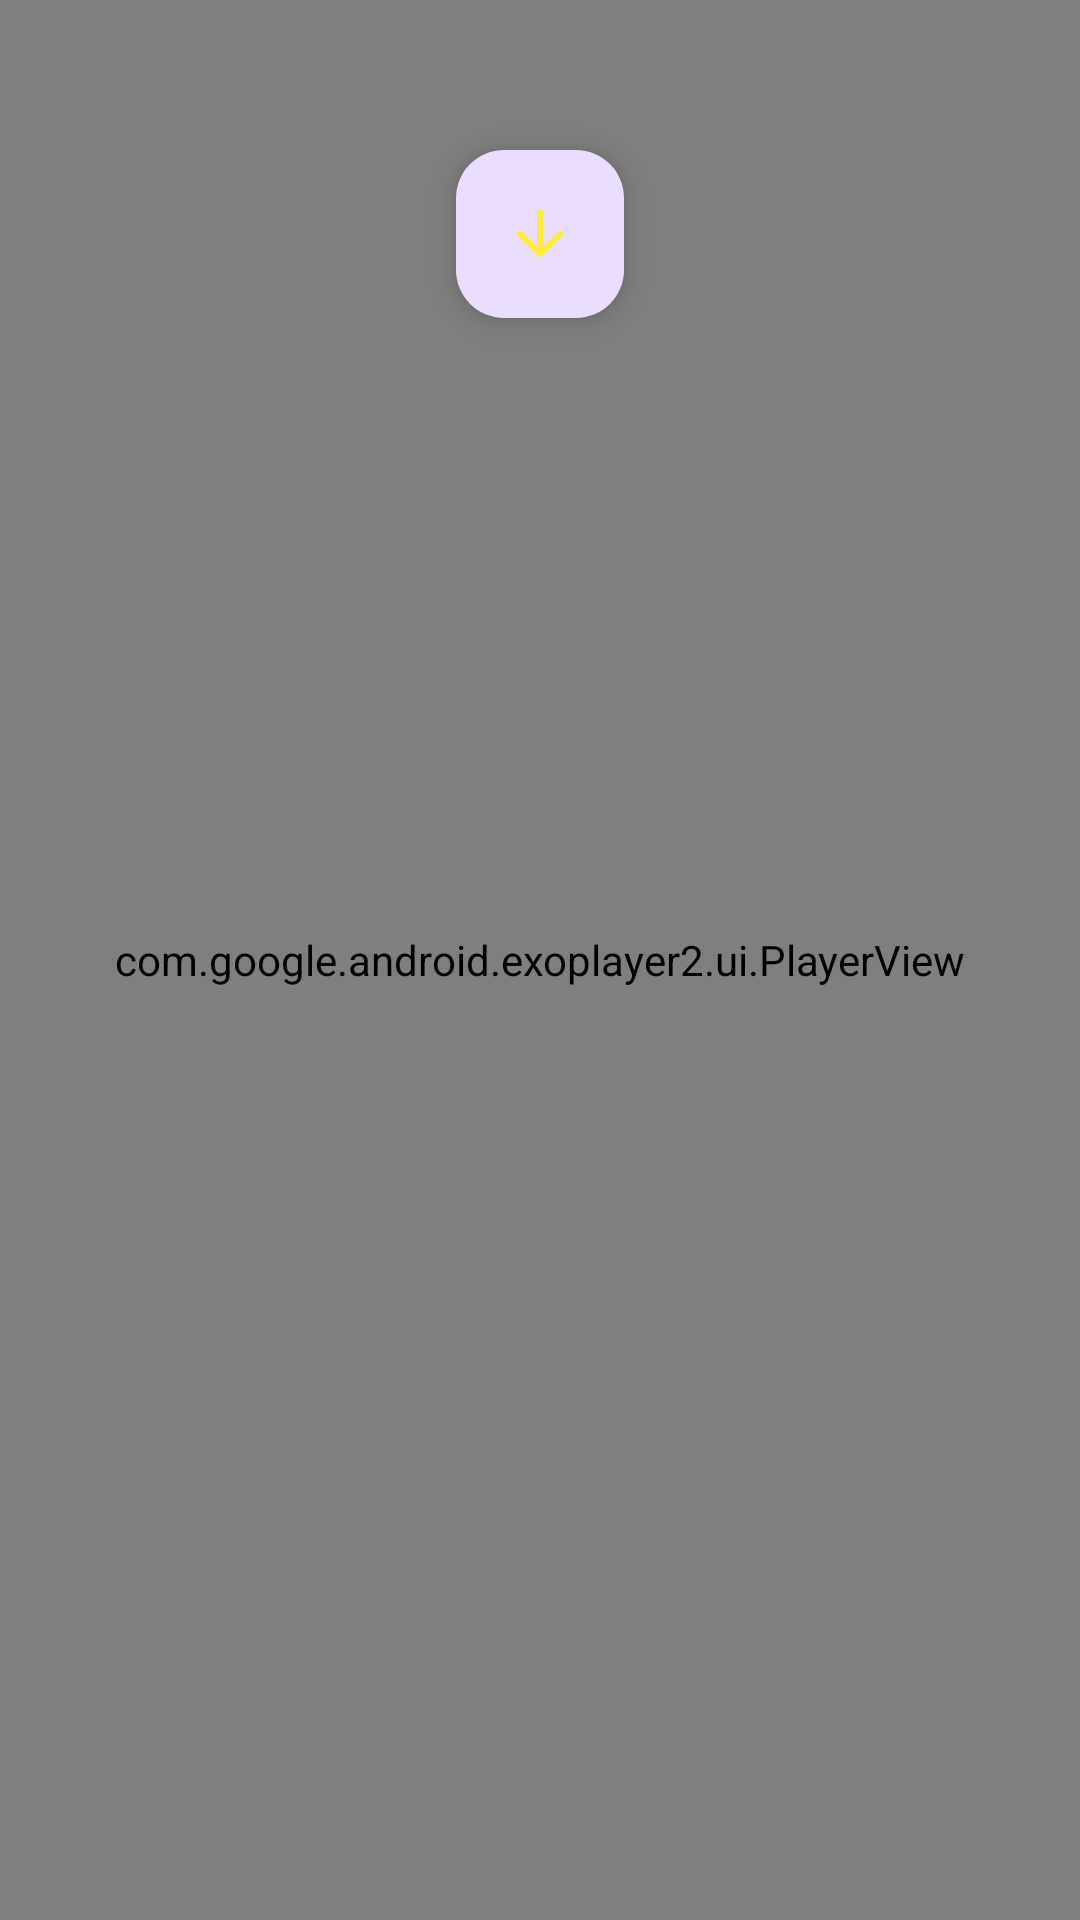

Icon bounding boxes for this 1080px x 1920px phone screenshot, format bbox=(x1, y1, x2, y2):
download arrow: bbox=(456, 150, 624, 318)
